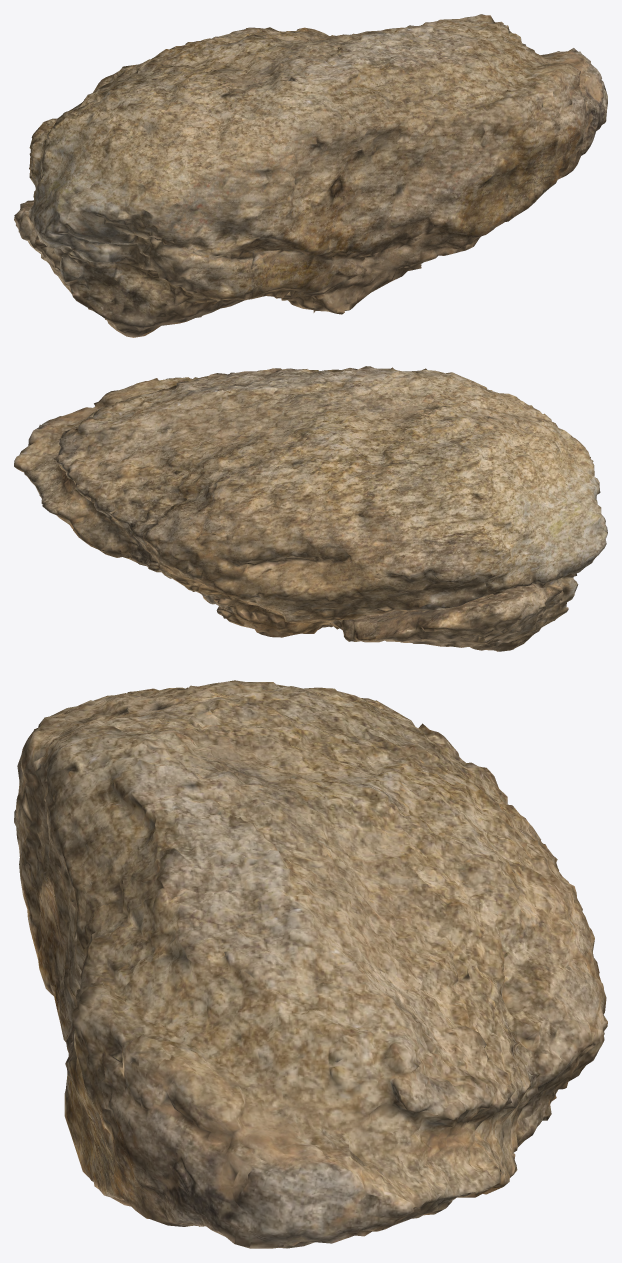
The model's file is namaqualand_boulder_05.glb.
3 renders of one model, top to bottom at view 1: azimuth 30°, elevation 25°; view 2: azimuth 150°, elevation 25°; view 3: azimuth 270°, elevation 25°, orthographic. The views are drawn at different scales.
Parts seen in each view (by area): view 1: namaqualand_boulder_05; view 2: namaqualand_boulder_05; view 3: namaqualand_boulder_05.
Part boxes in pixels (x1=…): namaqualand_boulder_05: x1=14, y1=14, x2=607, y2=337; namaqualand_boulder_05: x1=14, y1=366, x2=607, y2=651; namaqualand_boulder_05: x1=14, y1=680, x2=607, y2=1248.
Size of the model in its own units: 1.36 by 0.5384 by 0.7481.
Materials: 1 (1 with a texture image).
